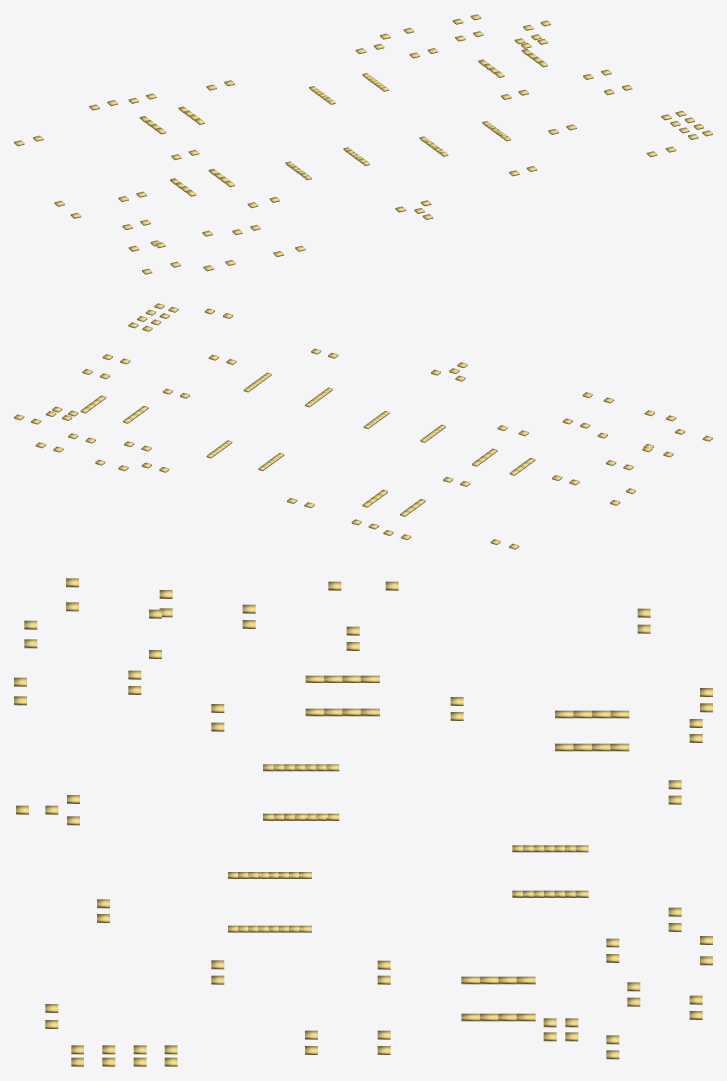
Rendered from 11_L95_TopGoldSMDPads.fbx.
The picture shows the model from 3 angles, top to bottom: view 1: azimuth 30°, elevation 25°; view 2: azimuth 150°, elevation 25°; view 3: azimuth 270°, elevation 25°; orthographic projection. The views are drawn at different scales.
Visible parts, largest first — view 1: L95_TopGoldSMDPads; view 2: L95_TopGoldSMDPads; view 3: L95_TopGoldSMDPads.
Boxes of the visible parts, box(x1,y1,x2,y2) form: L95_TopGoldSMDPads: box(14, 14, 712, 274); L95_TopGoldSMDPads: box(14, 303, 712, 549); L95_TopGoldSMDPads: box(14, 578, 712, 1066).
Bounding box in the file's own units: 1.33 × 0.004 × 0.807.
